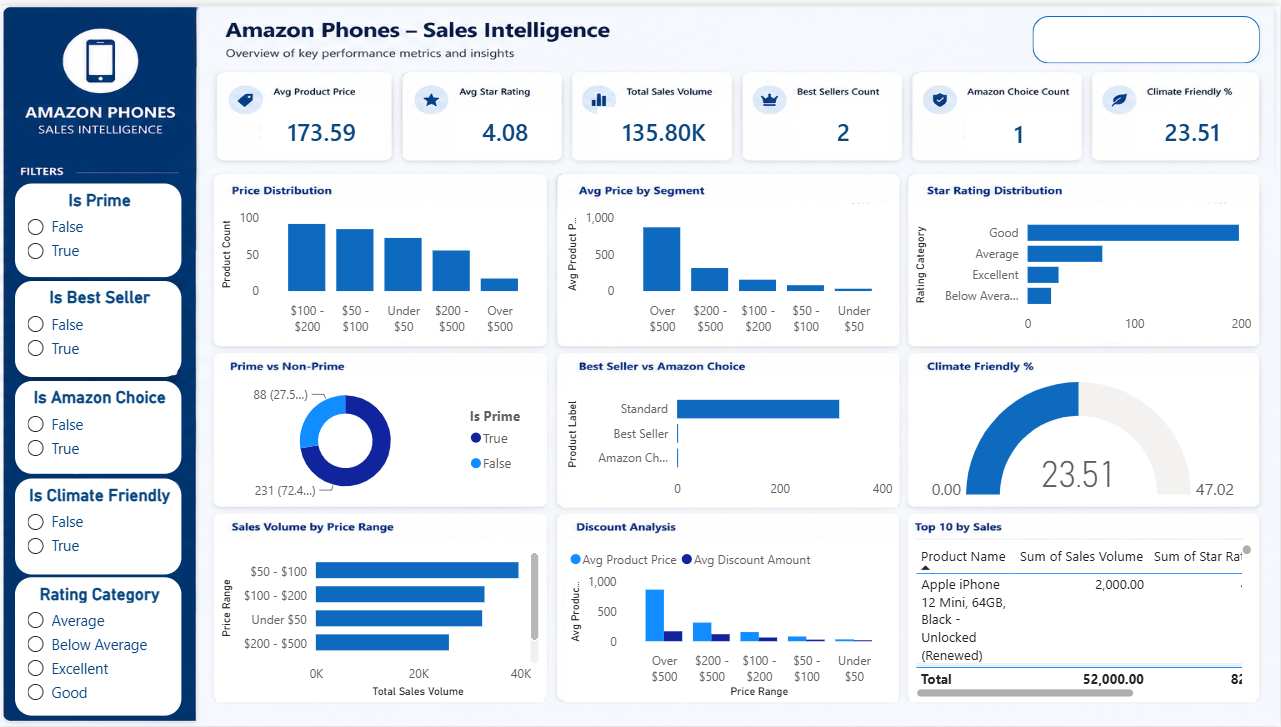

The page's visual inventory and layout, read from the dashboard file:
{"tool":"powerbi","page":{"name":"KPI","canvas":[1280,720],"ordinal":0},"visuals":[{"type":"cardVisual","fields":{"Data":["phone.Avg Product Price"]},"box":[256.2,93.8,131.2,60],"z":0},{"type":"cardVisual","fields":{"Data":["phone.Avg Star Rating"]},"box":[448.8,96.2,113.8,57.5],"z":1000},{"type":"cardVisual","fields":{"Data":["phone.Total Sales Volume"]},"box":[592.5,96.2,143.8,57.5],"z":2000},{"type":"cardVisual","fields":{"Data":["phone.Best Sellers Count"]},"box":[790,93.8,107.5,60],"z":3000},{"type":"cardVisual","fields":{"Data":["phone.Amazon Choice Count"]},"box":[961.2,96.2,115,60],"z":4000},{"type":"cardVisual","fields":{"Data":["phone.Climate Friendly %"]},"box":[1128.8,96.2,127.5,57.5],"z":5000},{"type":"shape","box":[1032.5,10,227.5,47.5],"z":6000},{"type":"clusteredColumnChart","fields":{"Category":["phone.Price Range"],"Y":["phone.Product Count"]},"box":[216.2,197.5,327.5,138.8],"z":7000},{"type":"columnChart","fields":{"Category":["phone.Price Range"],"Y":["phone.Avg Product Price"]},"box":[562.5,197.5,335,138.8],"z":8000},{"type":"barChart","fields":{"Category":["phone.Rating Category"],"Y":["phone.Product Count"]},"box":[910,197.5,346.2,138.8],"z":9000},{"type":"donutChart","fields":{"Category":["phone.Is Prime"],"Y":["phone.Product Count"]},"box":[216.2,371.2,327.5,127.5],"z":10000},{"type":"barChart","fields":{"Y":["phone.Product Count"],"Category":["phone.Product Label"]},"box":[562.5,371.2,335,130],"z":11000},{"type":"gauge","fields":{"Y":["phone.Climate Friendly %"]},"box":[910,371.2,346.2,127.5],"z":12000},{"type":"clusteredBarChart","fields":{"Y":["phone.Total Sales Volume"],"Category":["phone.Price Range"]},"box":[216.2,533.8,327.5,162.5],"z":13000},{"type":"clusteredColumnChart","fields":{"Category":["phone.Price Range"],"Y":["phone.Avg Product Price","phone.Avg Discount Amount"]},"box":[565,533.8,332.5,162.5],"z":14000},{"type":"tableEx","fields":{"Values":["phone.Product Name","Sum(phone.Sales Volume)","Sum(phone.Star Rating)","Sum(phone.Current Price)"]},"box":[910,533.8,346.2,162.5],"z":15000},{"type":"listSlicer","fields":{"Values":["phone.Is Prime"]},"box":[15,177.5,166.2,93.8],"z":16000},{"type":"listSlicer","fields":{"Values":["phone.Is Best Seller"]},"box":[15,275,166.2,96.2],"z":17000},{"type":"listSlicer","fields":{"Values":["phone.Is Amazon Choice"]},"box":[15,375,166.2,92.5],"z":18000},{"type":"listSlicer","fields":{"Values":["phone.Is Climate Friendly"]},"box":[15,472.5,166.2,96.2],"z":19000},{"type":"listSlicer","fields":{"Values":["phone.Rating Category"]},"box":[15,571.2,166.2,138.8],"z":21000}]}

Visuals, with their boxes in screenshot pixels (x1, y1, x2, y2), scaled from the page's 1280x720 canvas onto the 1281x727 screenshot:
cardVisual - phone.Avg Product Price: [x1=256, y1=95, x2=388, y2=155]
cardVisual - phone.Avg Star Rating: [x1=449, y1=97, x2=563, y2=155]
cardVisual - phone.Total Sales Volume: [x1=593, y1=97, x2=737, y2=155]
cardVisual - phone.Best Sellers Count: [x1=791, y1=95, x2=898, y2=155]
cardVisual - phone.Amazon Choice Count: [x1=962, y1=97, x2=1077, y2=158]
cardVisual - phone.Climate Friendly %: [x1=1130, y1=97, x2=1257, y2=155]
shape: [x1=1033, y1=10, x2=1261, y2=58]
clusteredColumnChart - phone.Price Range x phone.Product Count: [x1=216, y1=199, x2=544, y2=340]
columnChart - phone.Price Range x phone.Avg Product Price: [x1=563, y1=199, x2=898, y2=340]
barChart - phone.Rating Category x phone.Product Count: [x1=911, y1=199, x2=1257, y2=340]
donutChart - phone.Is Prime x phone.Product Count: [x1=216, y1=375, x2=544, y2=504]
barChart - phone.Product Count x phone.Product Label: [x1=563, y1=375, x2=898, y2=506]
gauge - phone.Climate Friendly %: [x1=911, y1=375, x2=1257, y2=504]
clusteredBarChart - phone.Total Sales Volume x phone.Price Range: [x1=216, y1=539, x2=544, y2=703]
clusteredColumnChart - phone.Price Range x phone.Avg Product Price: [x1=565, y1=539, x2=898, y2=703]
tableEx - phone.Product Name x Sum(phone.Sales Volume): [x1=911, y1=539, x2=1257, y2=703]
listSlicer - phone.Is Prime: [x1=15, y1=179, x2=181, y2=274]
listSlicer - phone.Is Best Seller: [x1=15, y1=278, x2=181, y2=375]
listSlicer - phone.Is Amazon Choice: [x1=15, y1=379, x2=181, y2=472]
listSlicer - phone.Is Climate Friendly: [x1=15, y1=477, x2=181, y2=574]
listSlicer - phone.Rating Category: [x1=15, y1=577, x2=181, y2=717]
